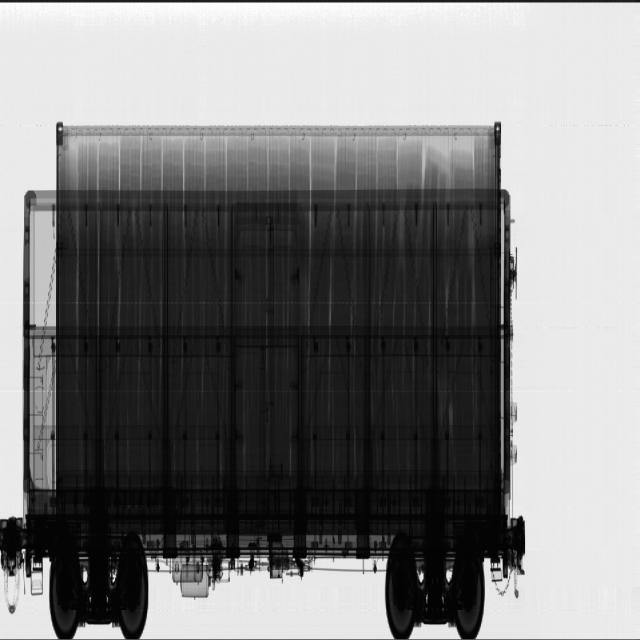textiles: (57, 135, 499, 492)
